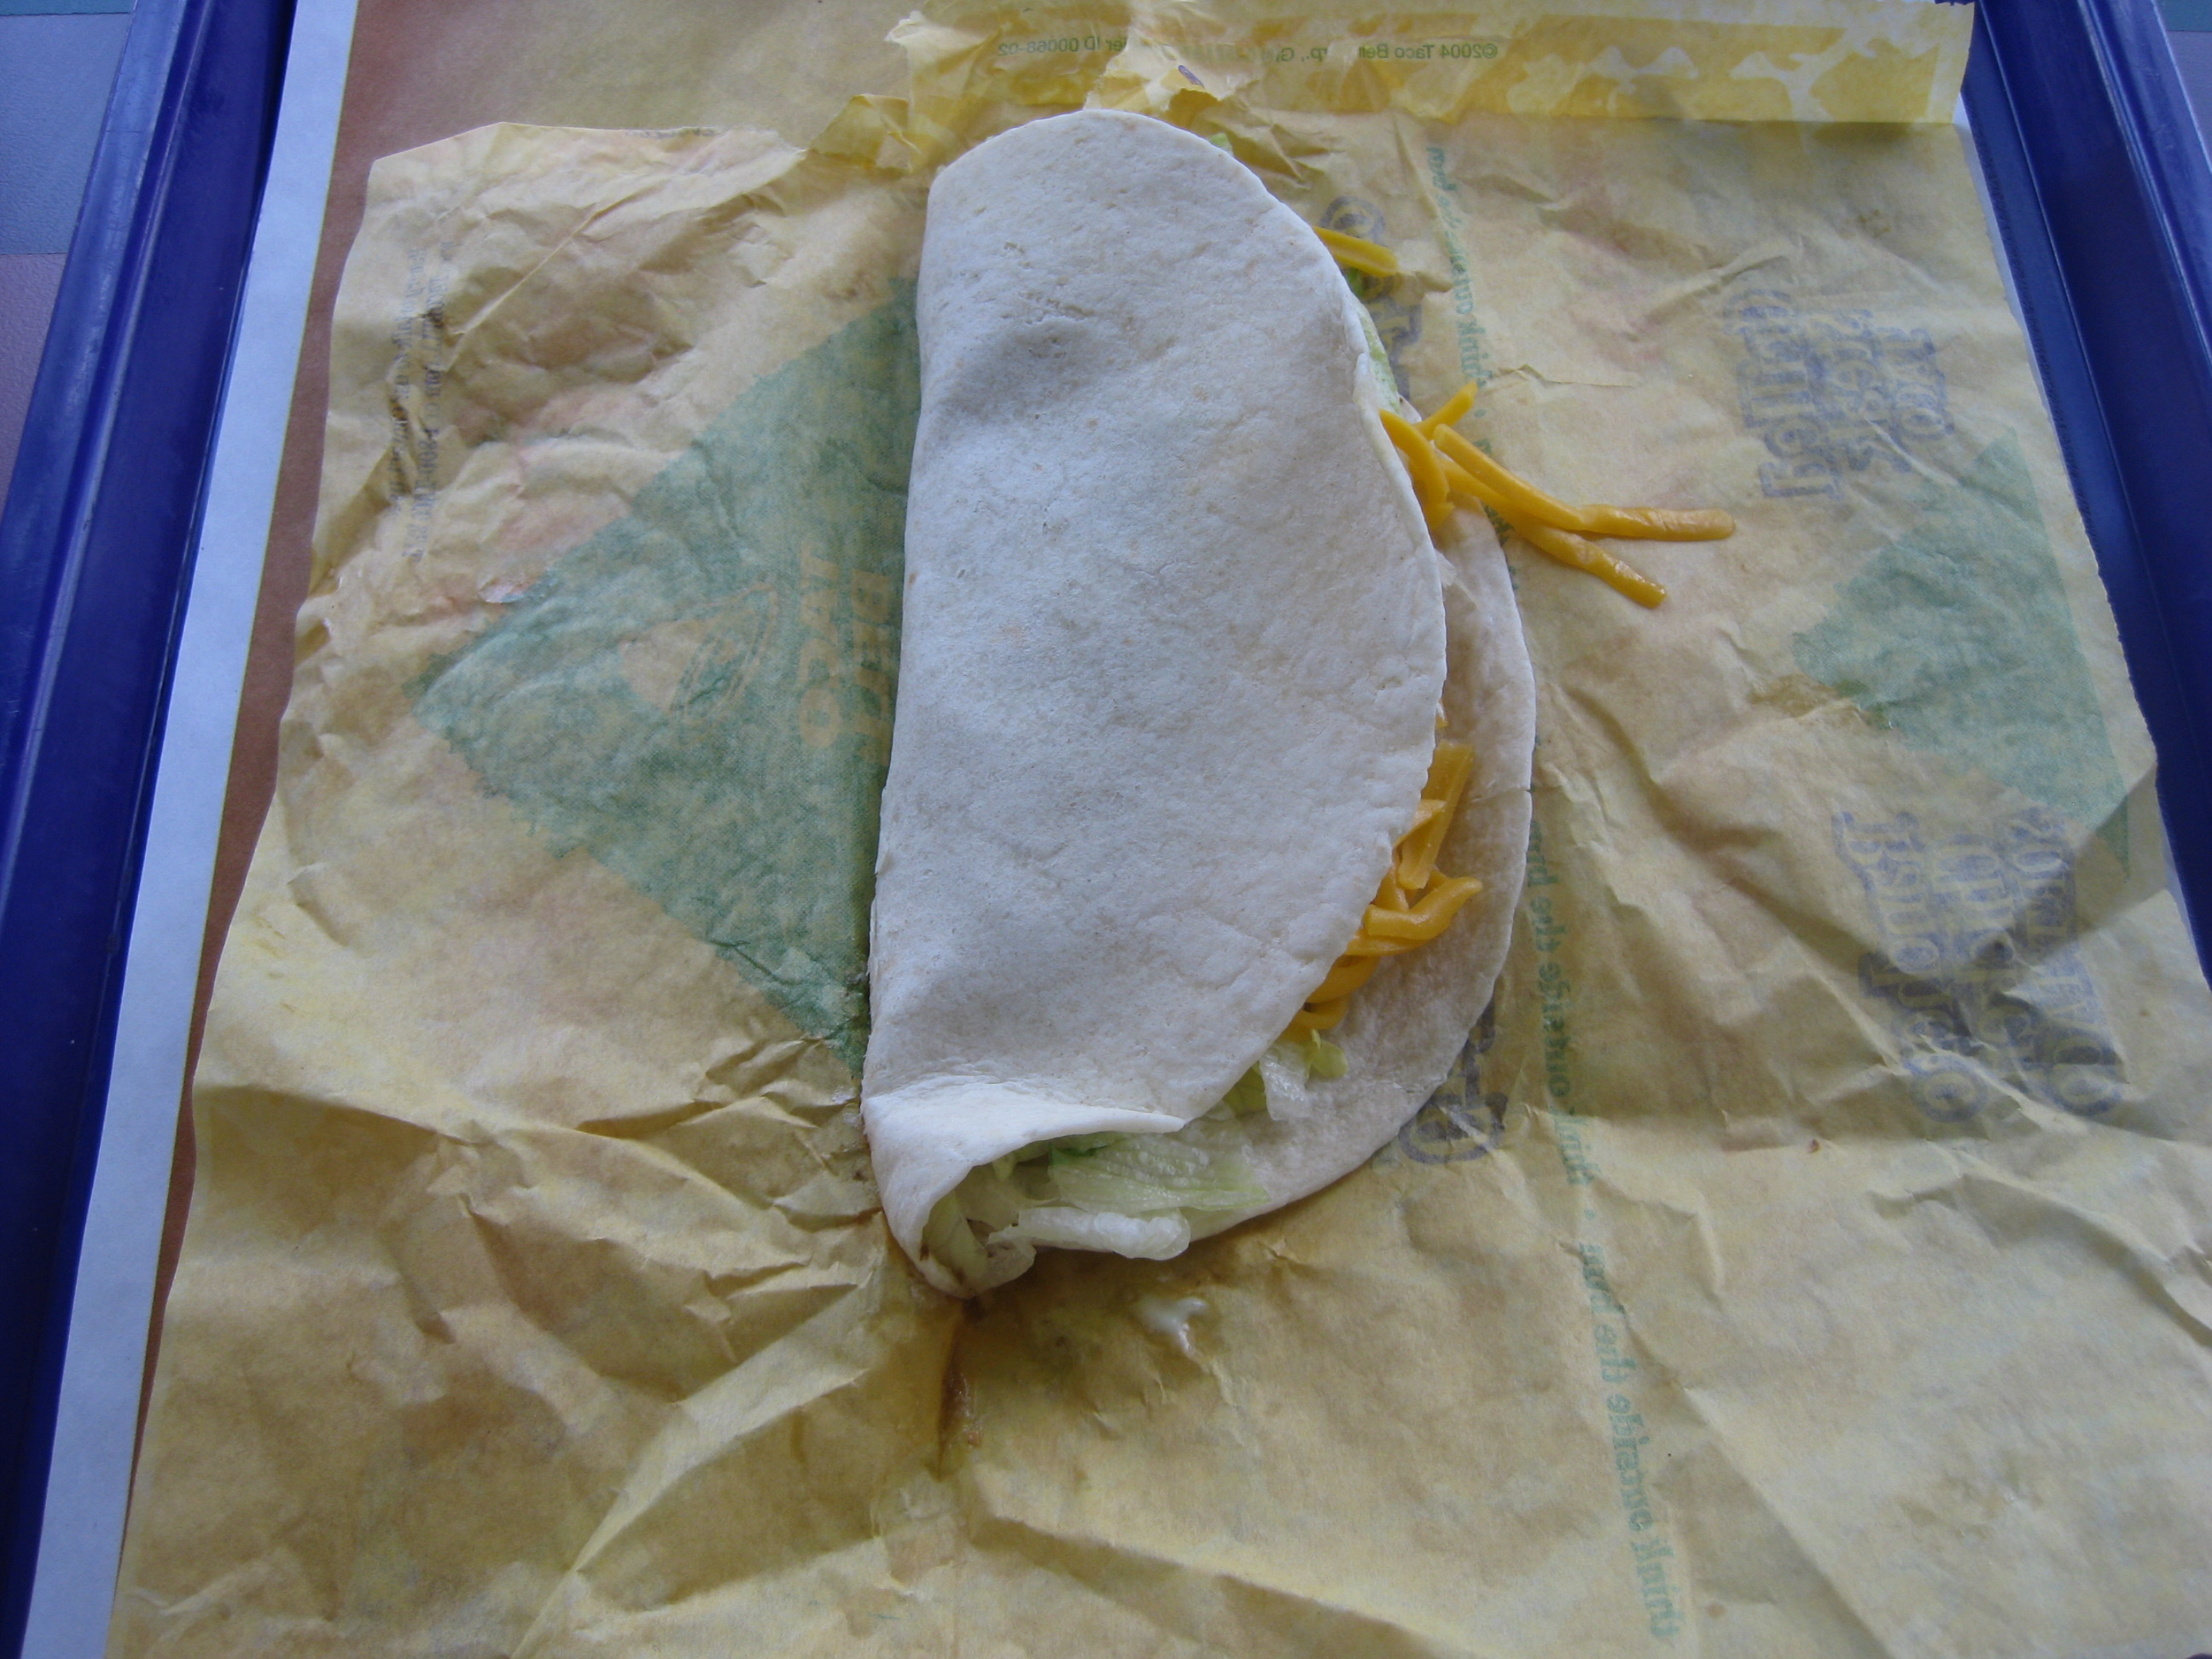taco: (800, 84, 1696, 1343)
